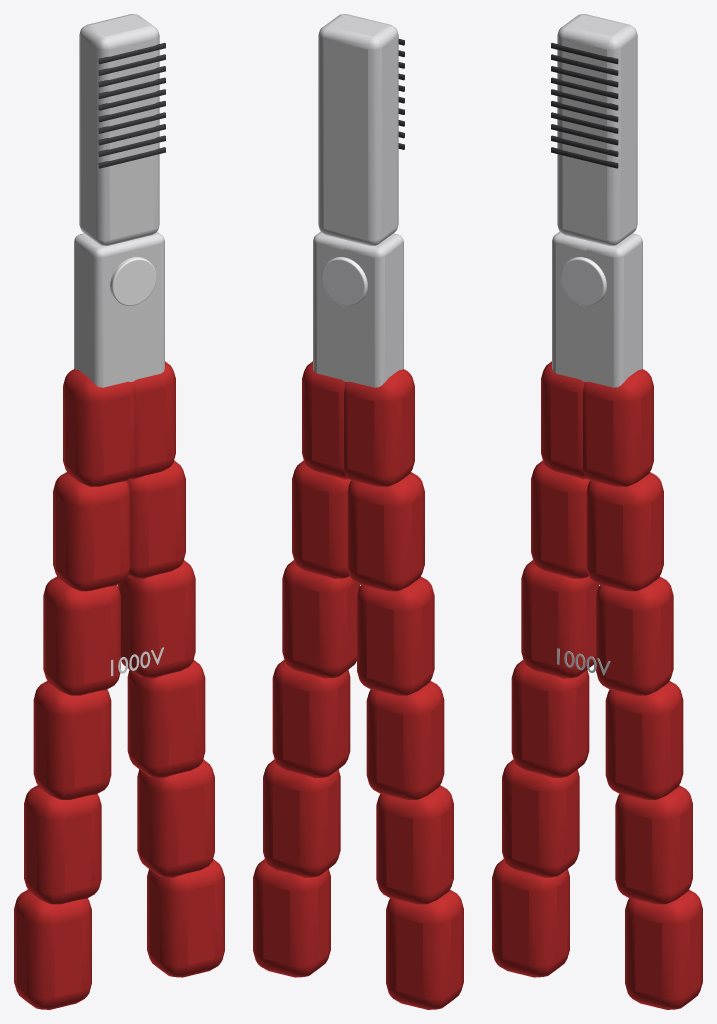
File: pliers.glb
3 views of the same model, side by side, from view 1: azimuth 30°, elevation 25°; view 2: azimuth 150°, elevation 25°; view 3: azimuth 330°, elevation 25° (orthographic).
Parts seen in each view (by area): view 1: grip, head; view 2: grip, head; view 3: grip, head.
Boxes of the visible parts, x1,y1,x2,y2 form: grip: [14, 361, 224, 1009]; head: [74, 14, 165, 387]; grip: [253, 361, 463, 1009]; head: [313, 14, 404, 387]; grip: [492, 361, 702, 1009]; head: [551, 14, 642, 387].
Bounding box in the file's own units: 0.044 × 0.207 × 0.0123.
